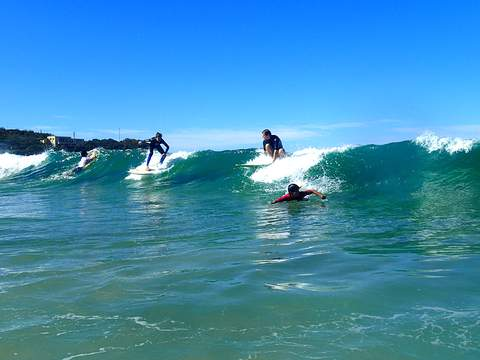person: (138, 130, 172, 172), (271, 184, 326, 204), (263, 129, 287, 164), (71, 150, 100, 175)
